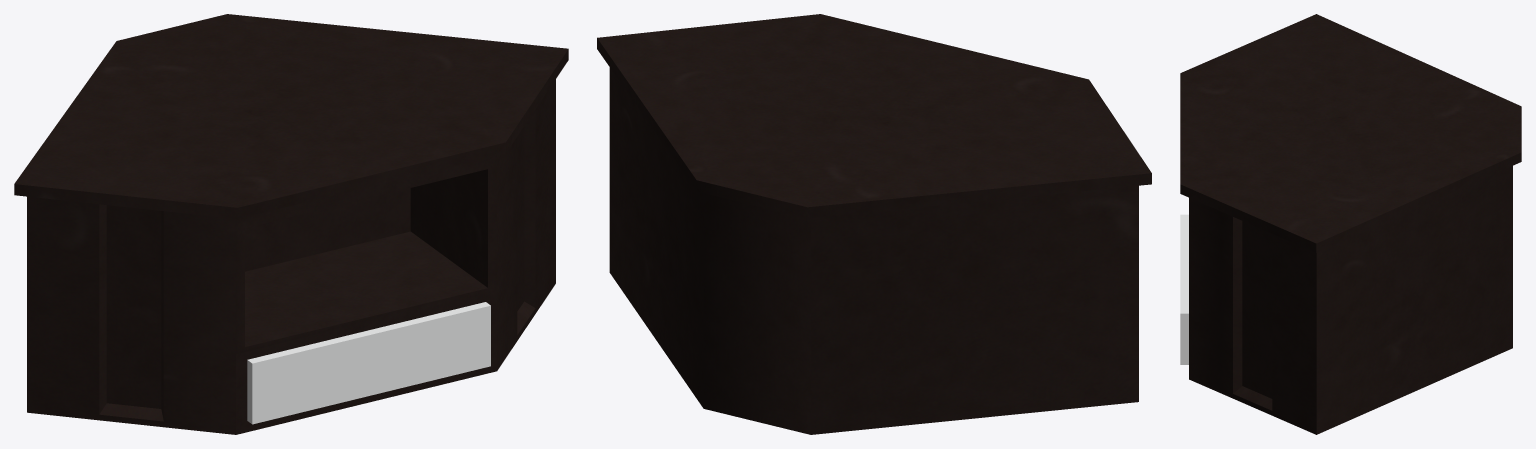
The model's file is TV cabinet.FBX.
The picture shows the model from 3 angles, left to right: view 1: azimuth 30°, elevation 25°; view 2: azimuth 150°, elevation 25°; view 3: azimuth 270°, elevation 25°; orthographic projection. The views are drawn at different scales.
Visible parts, largest first — view 1: tv cabinet; view 2: tv cabinet; view 3: tv cabinet.
Boxes of the visible parts, box(x1,y1,x2,y2) form: tv cabinet: box(14, 14, 568, 434); tv cabinet: box(597, 14, 1151, 434); tv cabinet: box(1180, 14, 1521, 434).
Bounding box in the file's own units: 129 × 51.57 × 81.14.
Materials: 1 (1 with a texture image).
